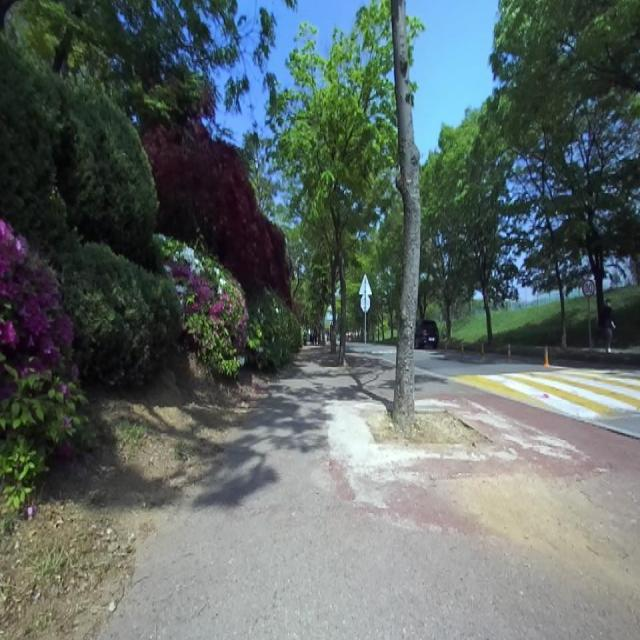sidewalk: (103, 348, 640, 639)
